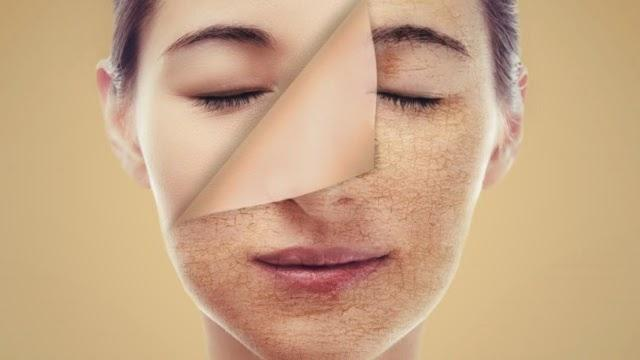Dry-Skin: (175, 203, 465, 360), (337, 0, 490, 198)
